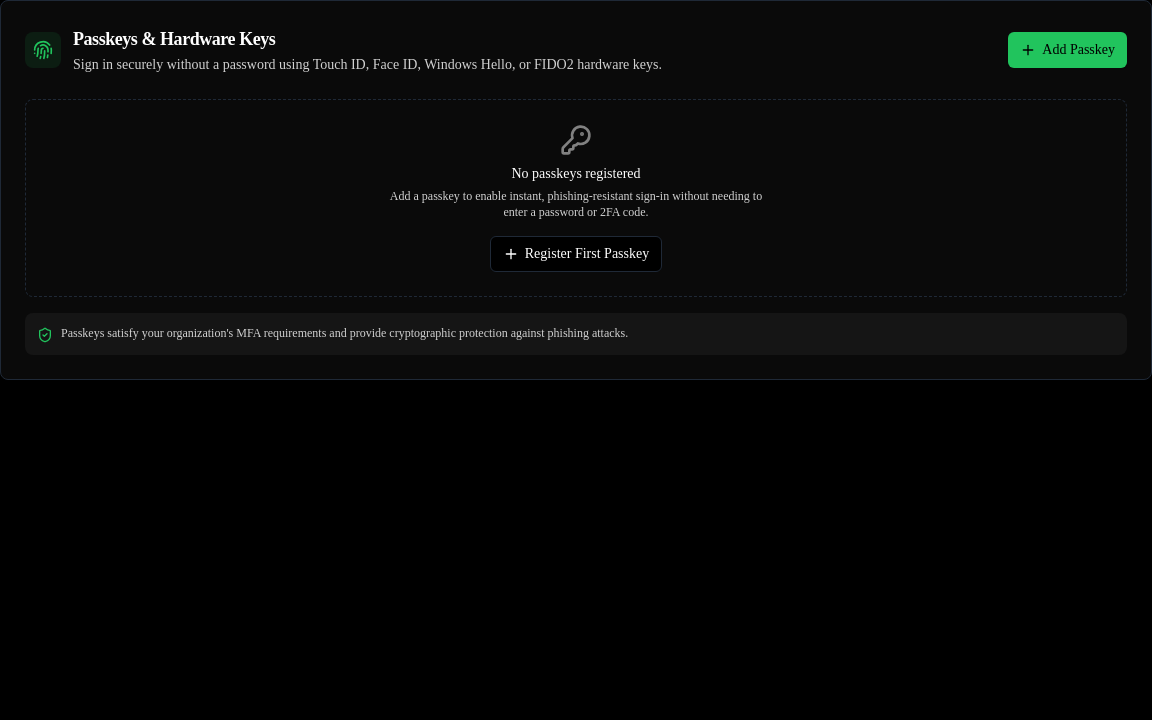
it: PasskeysCard Component - Security Settings › 9. successful registration refreshes the list and shows success toast
Later steps or results of the test are not shown.
// Open Add Modal
Click the button "Add Passkey" at (1068, 50), box [1008, 32, 1127, 68]
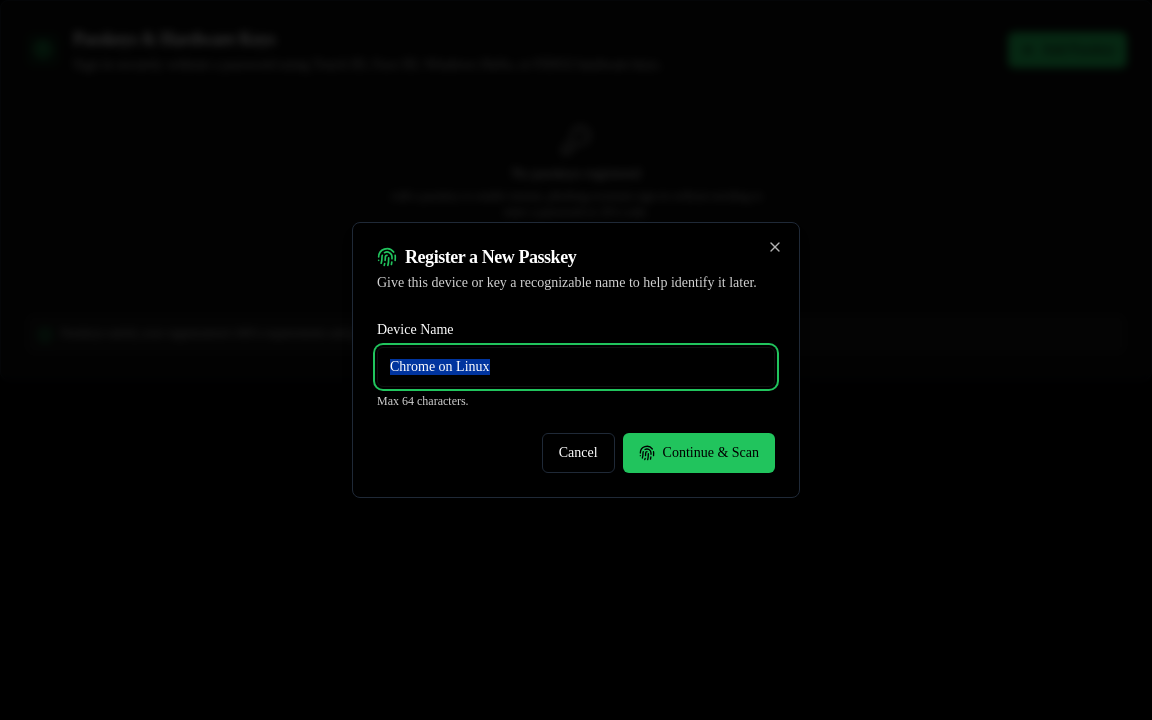
Check: the heading "Register a New Passkey" is shown, box [377, 247, 576, 267]
